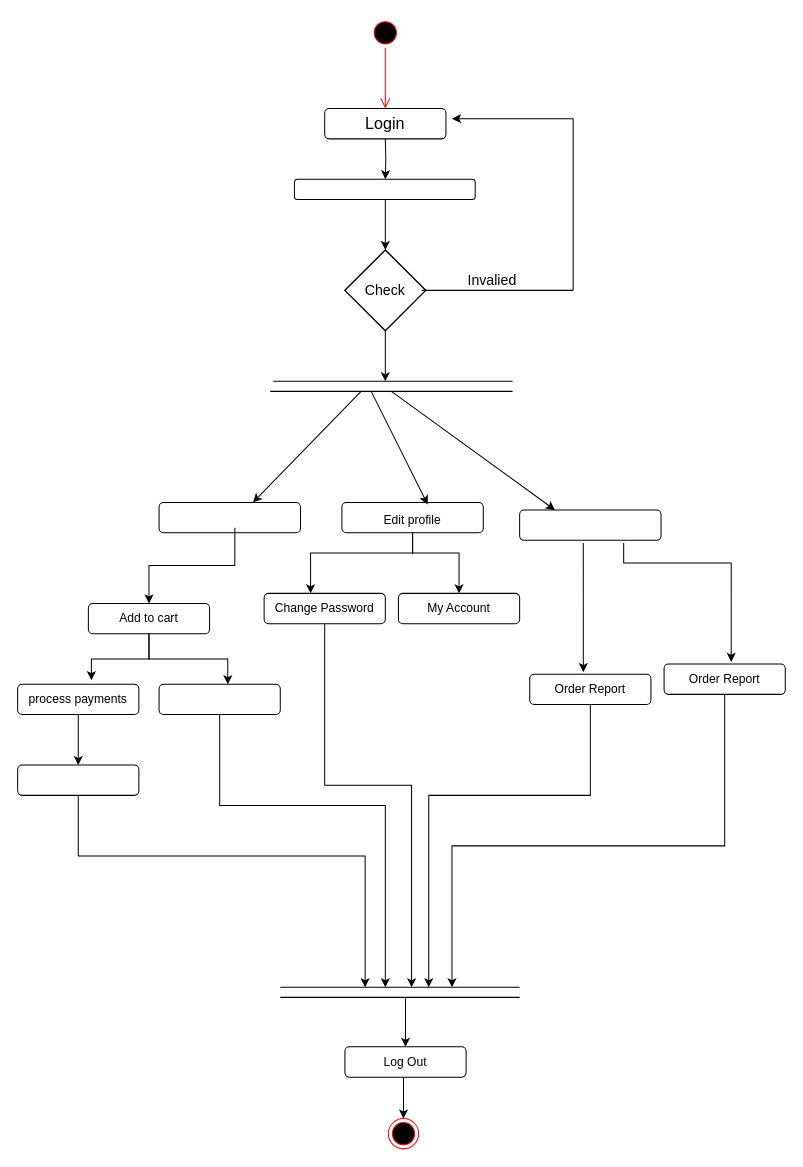
The diagram is 803 pixels wide and 1167 high, and some of its shapes have lost their labels. Here are the shapes that lost their labels. From the top down, the centre of each, then its label:
At (384,188): "Authentication".
At (229,517): "Search Product".
At (590,524): "View reports".
At (219,699): "Cancel Order".
At (78,779): "Confirm the order".
